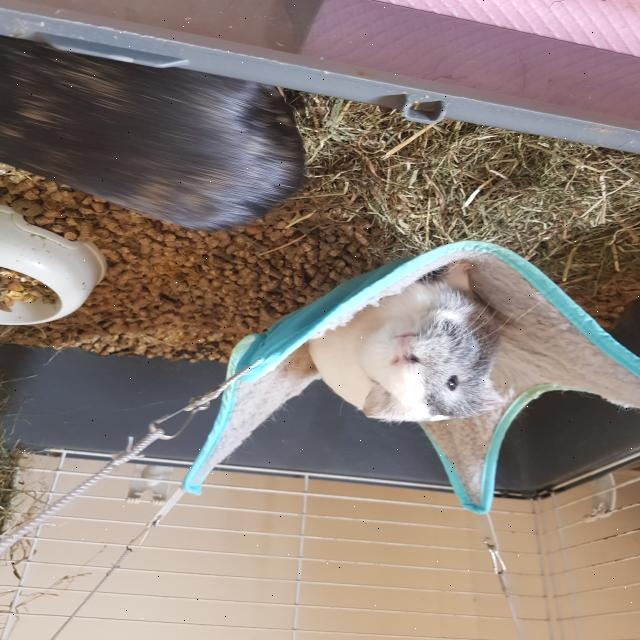guinea pig: (0, 33, 310, 234), (308, 260, 512, 423)
